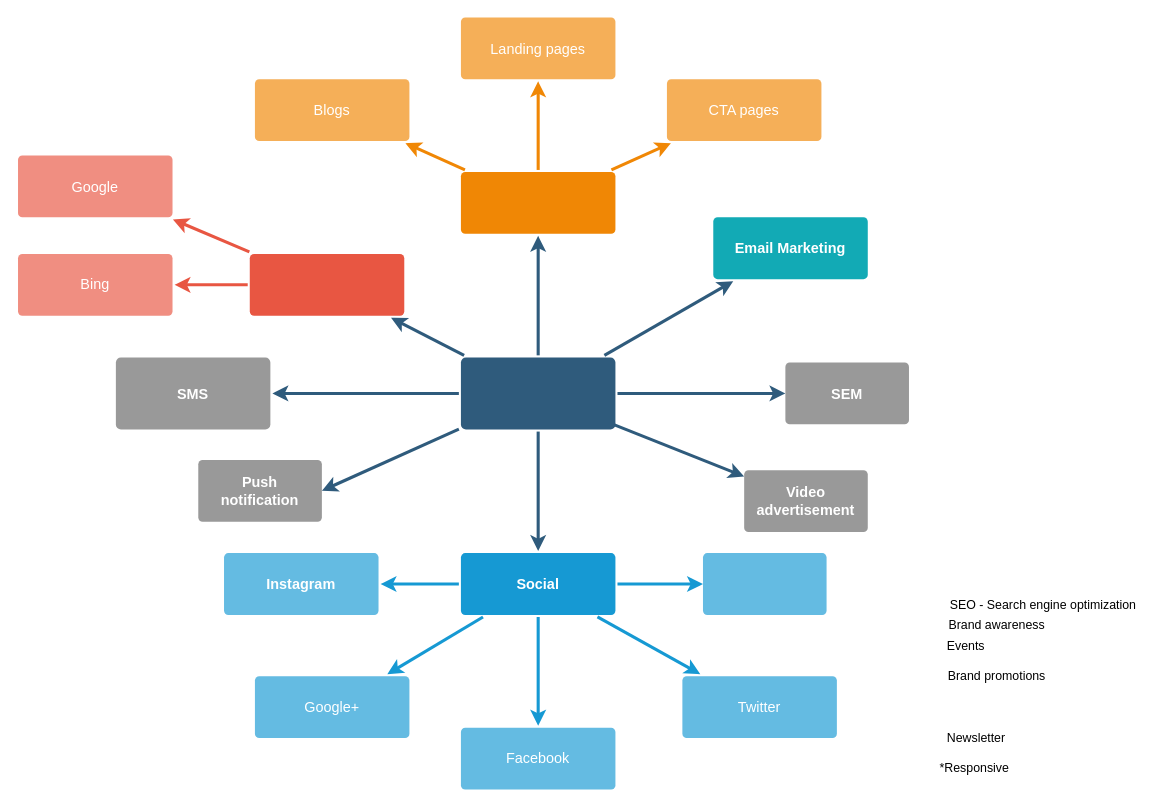
Image size: 1163x808. Some labels were removed from this diagram. The box of each missing label's shape, as (x1, y1, x2, y2) in pixels:
Content: (460, 357, 615, 429)
LinkedIn: (702, 553, 826, 614)
SEO: (249, 253, 404, 315)
Webpage*: (460, 171, 615, 233)
